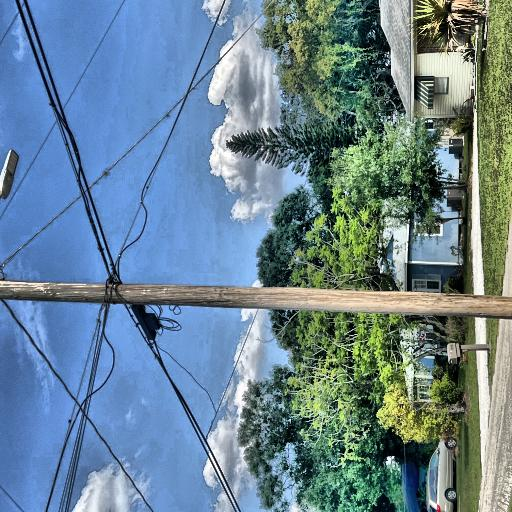pole: (57, 0, 120, 512)
street light: (100, 97, 225, 140)
